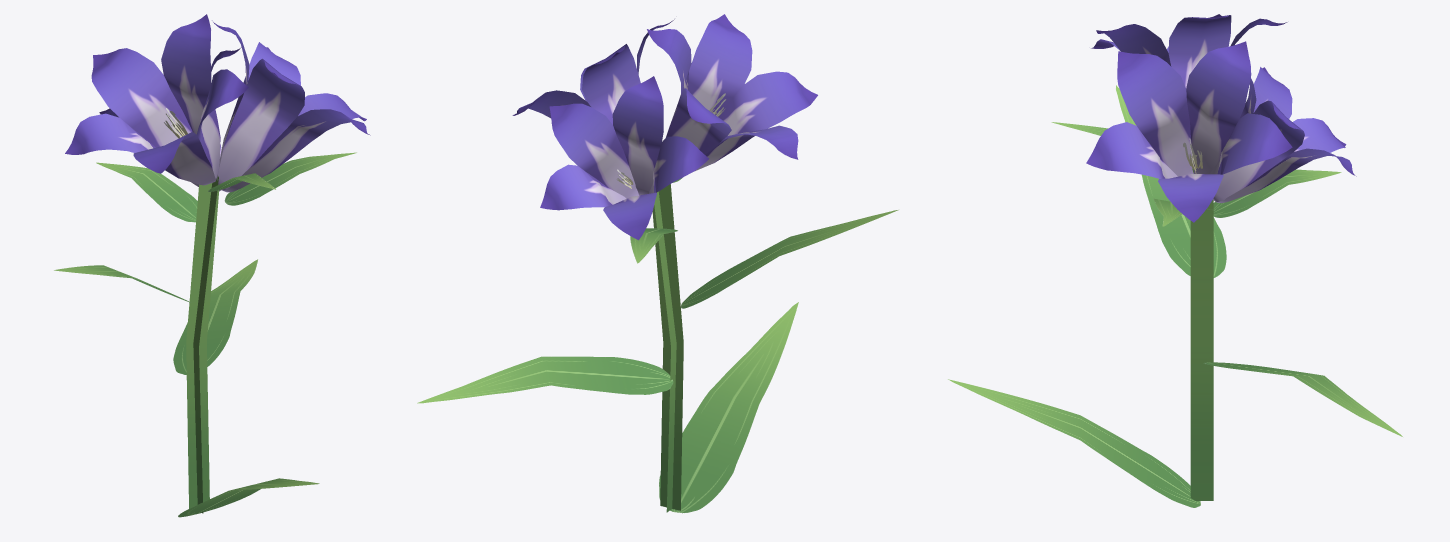
Rendered from Gentian2.fbx.
3 views of the same model, side by side, from view 1: azimuth 30°, elevation 25°; view 2: azimuth 150°, elevation 25°; view 3: azimuth 270°, elevation 25° (orthographic). The views are drawn at different scales.
Visible parts, largest first — view 1: rindou; view 2: rindou; view 3: rindou.
Part boxes in pixels (x1,y1,x2,y2): rindou: (54, 14, 370, 517); rindou: (417, 14, 898, 513); rindou: (948, 14, 1402, 507).
Bounding box in the file's own units: 1.93 × 2.3 × 2.05.
